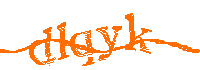d: (29, 27, 54, 66)
k: (125, 12, 151, 55)
l: (56, 20, 69, 61)
q: (70, 29, 96, 68)
y: (95, 26, 123, 63)
